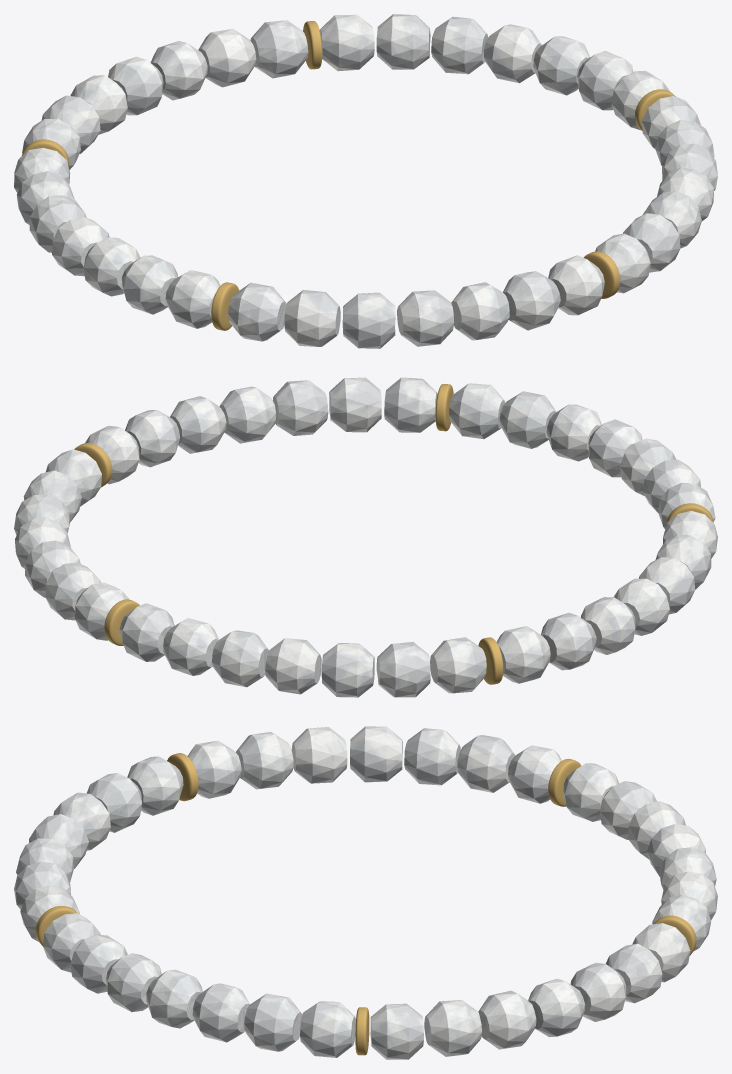
File: standard.glb
3 renders of one model, top to bottom at view 1: azimuth 30°, elevation 25°; view 2: azimuth 150°, elevation 25°; view 3: azimuth 270°, elevation 25°, orthographic. The views are drawn at different scales.
Parts seen in each view (by area): view 1: facet_kulka_1.004, facet_kulka_2.004, facet_kulka_0.005, facet_kulka_4.004, facet_kulka_4, facet_kulka_2.001, facet_kulka_0.001, facet_kulka_1.001, facet_kulka_3.004, facet_kulka_1.005, facet_kulka_3, facet_kulka_3.001 (+27 smaller); view 2: facet_kulka_3.002, facet_kulka_0.002, facet_kulka_2.002, facet_kulka_4.001, facet_kulka_0.006, facet_kulka_1.002, facet_kulka_3.005, facet_kulka_4.005, facet_kulka_2.005, facet_kulka_1.006, facet_kulka_3.001, facet_kulka_1.005 (+27 smaller); view 3: facet_kulka_3.006, facet_kulka_1, facet_kulka_2, facet_kulka_4.006, facet_kulka_1.003, facet_kulka_3.003, facet_kulka_0, facet_kulka_2.006, facet_kulka_2.003, facet_kulka_4.003, facet_kulka_0.003, facet_kulka_3 (+28 smaller).
Part boxes in pixels (x1,y1,x2,y2): facet_kulka_1.004: [228, 282, 286, 341]; facet_kulka_2.004: [284, 289, 340, 346]; facet_kulka_0.005: [451, 282, 509, 340]; facet_kulka_4.004: [397, 290, 453, 346]; facet_kulka_4: [431, 16, 487, 74]; facet_kulka_2.001: [250, 20, 308, 78]; facet_kulka_0.001: [376, 14, 430, 69]; facet_kulka_1.001: [319, 14, 374, 71]; facet_kulka_3.004: [342, 292, 395, 348]; facet_kulka_1.005: [503, 271, 560, 330]; facet_kulka_3: [483, 24, 541, 83]; facet_kulka_3.001: [198, 29, 256, 87]; facet_kulka_3.002: [430, 637, 486, 693]; facet_kulka_0.002: [265, 638, 321, 694]; facet_kulka_2.002: [376, 641, 430, 697]; facet_kulka_4.001: [212, 630, 268, 687]; facet_kulka_0.006: [272, 380, 328, 435]; facet_kulka_1.002: [321, 643, 374, 697]; facet_kulka_3.005: [384, 377, 437, 432]; facet_kulka_4.005: [329, 377, 381, 432]; facet_kulka_2.005: [449, 383, 505, 439]; facet_kulka_1.006: [219, 386, 275, 443]; facet_kulka_3.001: [163, 618, 218, 675]; facet_kulka_1.005: [499, 391, 556, 448]; facet_kulka_3.006: [244, 993, 302, 1051]; facet_kulka_1: [424, 1000, 481, 1056]; facet_kulka_2: [478, 990, 536, 1049]; facet_kulka_4.006: [300, 1001, 355, 1057]; facet_kulka_1.003: [404, 728, 460, 785]; facet_kulka_3.003: [291, 727, 347, 783]; facet_kulka_0: [370, 1003, 423, 1059]; facet_kulka_2.006: [192, 983, 249, 1042]; facet_kulka_2.003: [350, 726, 402, 782]; facet_kulka_4.003: [236, 732, 293, 789]; facet_kulka_0.003: [457, 735, 514, 792]; facet_kulka_3: [528, 978, 585, 1037].
Size of the model in its own units: 5.91 by 0.4724 by 5.84.
4 materials, 3 textured.
